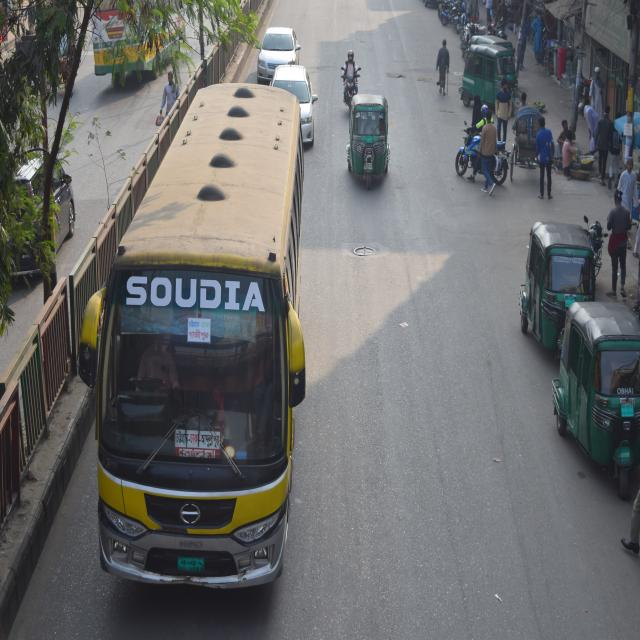bus: (94, 82, 308, 598), (83, 0, 195, 87)
car: (266, 65, 317, 129), (251, 20, 302, 79)
microbus: (0, 146, 84, 287)
motorbike: (453, 106, 510, 187), (580, 212, 614, 268), (338, 54, 359, 114), (440, 0, 472, 35)
